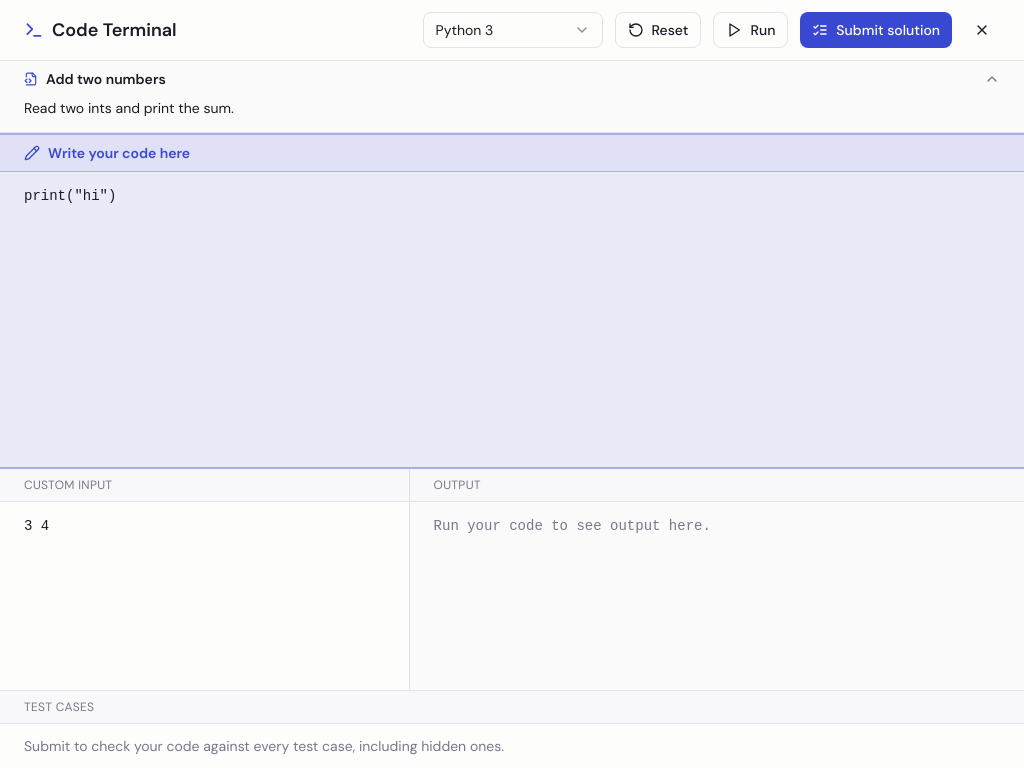
Test: CodingTerminalWidget submission › submits weekly code and reports a full pass
Click the button "Submit solution". click: [876, 30]
box: [800,12,952,48]
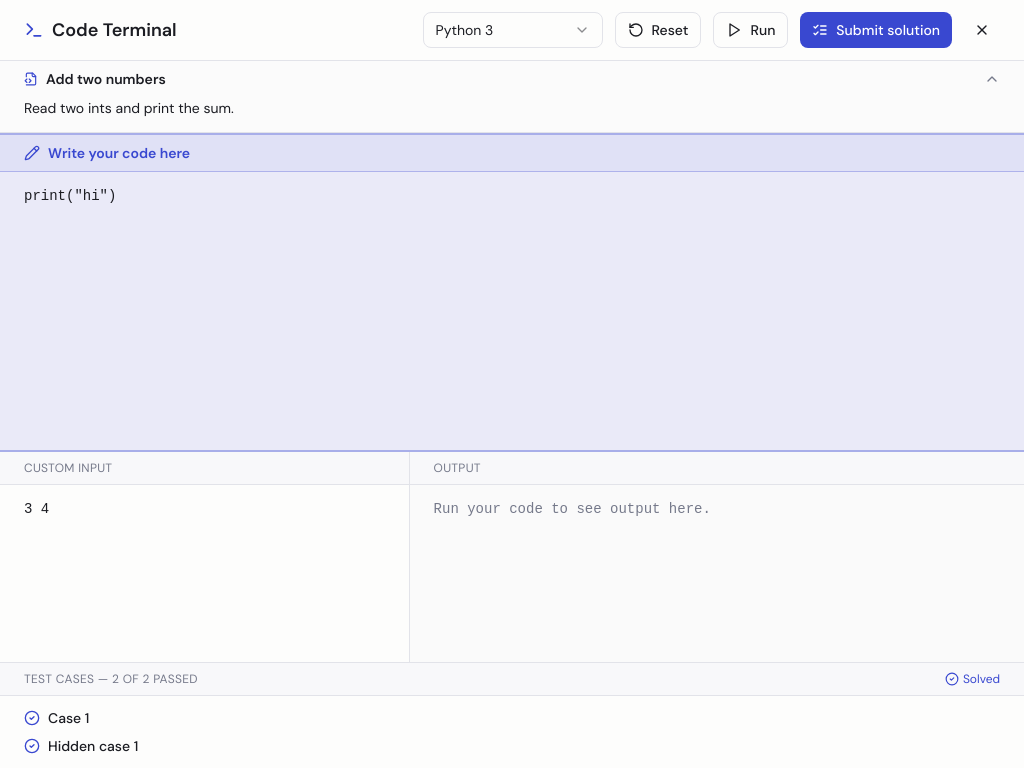
Now the text "Test cases — 2 of 2 passed" is shown, box [24,671,198,687]
Now the text "Solved" is shown, box [945,671,1000,687]
